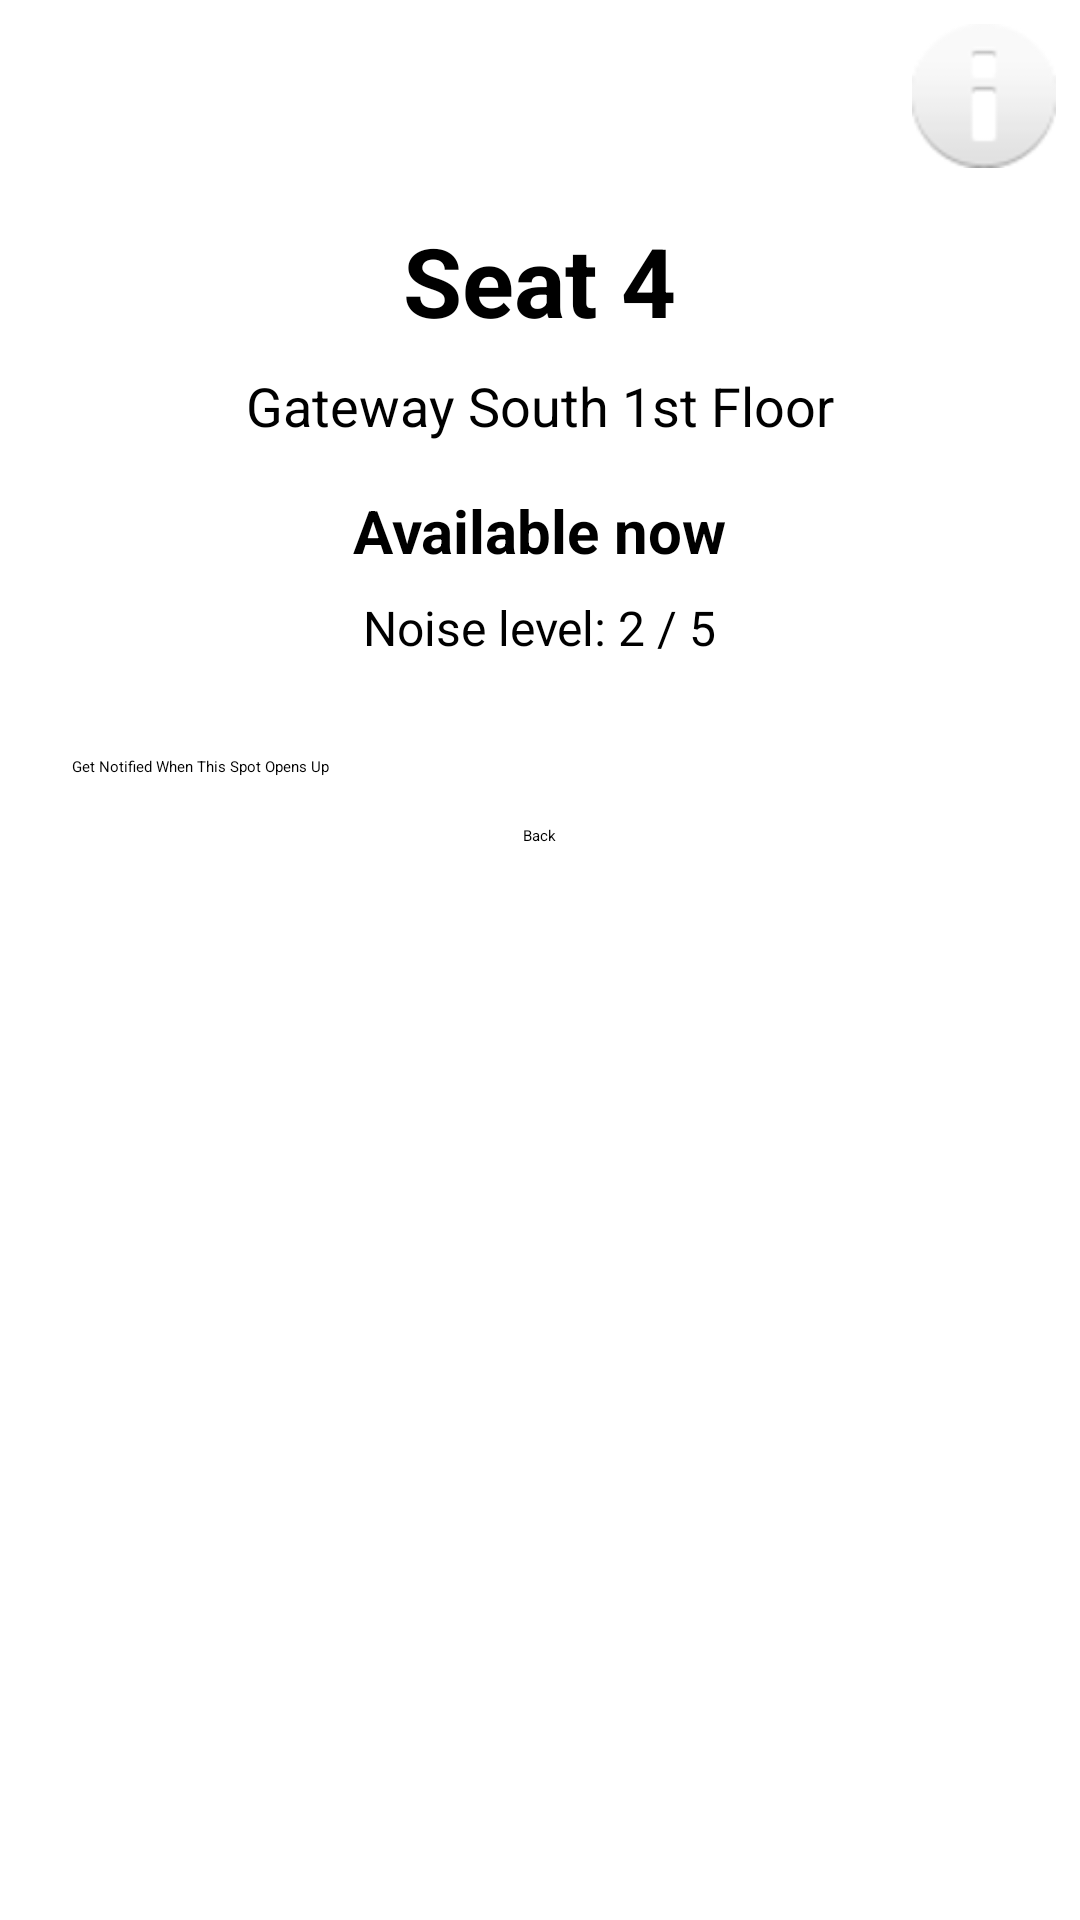

Locate icon controls on the screen. Image size 1080x1920, boxes as box(x1, y1, x2, y2).
Information: box(912, 50, 1056, 168)
